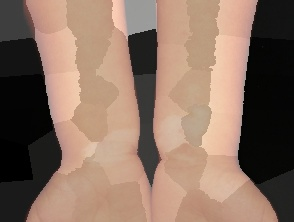vitiligo: (144, 0, 273, 222), (24, 0, 149, 209)
